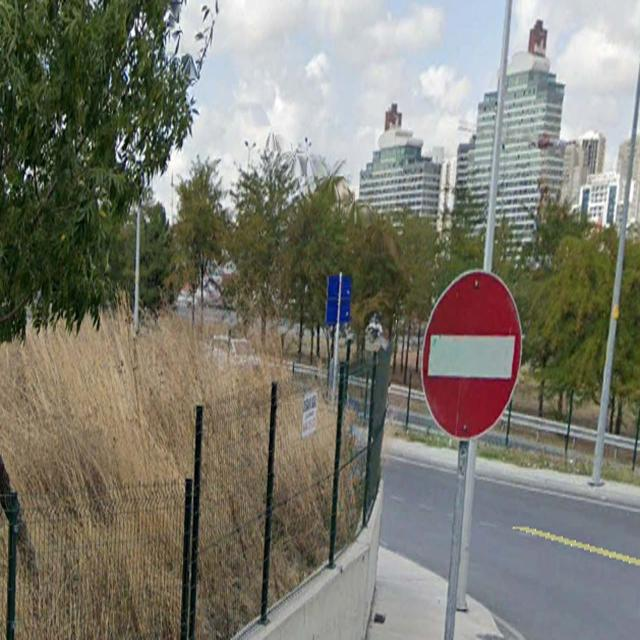girisyok: (420, 268, 522, 437)
